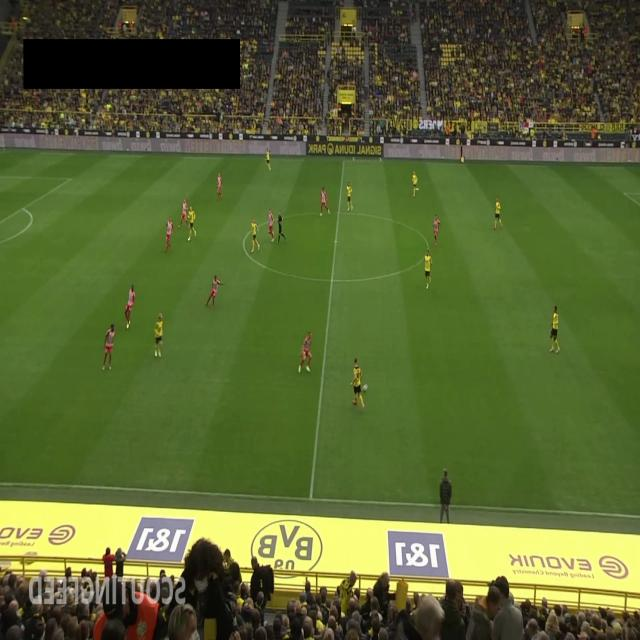ball: (362, 383, 368, 394)
player: (350, 357, 365, 412), (205, 274, 224, 308), (102, 324, 115, 371), (298, 331, 312, 374), (549, 306, 560, 354), (125, 284, 135, 330), (154, 313, 163, 357), (164, 216, 174, 252), (178, 199, 189, 231), (424, 250, 433, 289), (186, 206, 196, 241), (493, 196, 503, 230), (251, 218, 260, 254), (320, 186, 330, 216), (432, 214, 440, 246), (346, 181, 353, 212), (268, 208, 274, 241), (216, 172, 223, 200), (412, 170, 418, 197), (266, 146, 271, 170)
referee: (277, 209, 286, 244), (458, 140, 465, 165)
